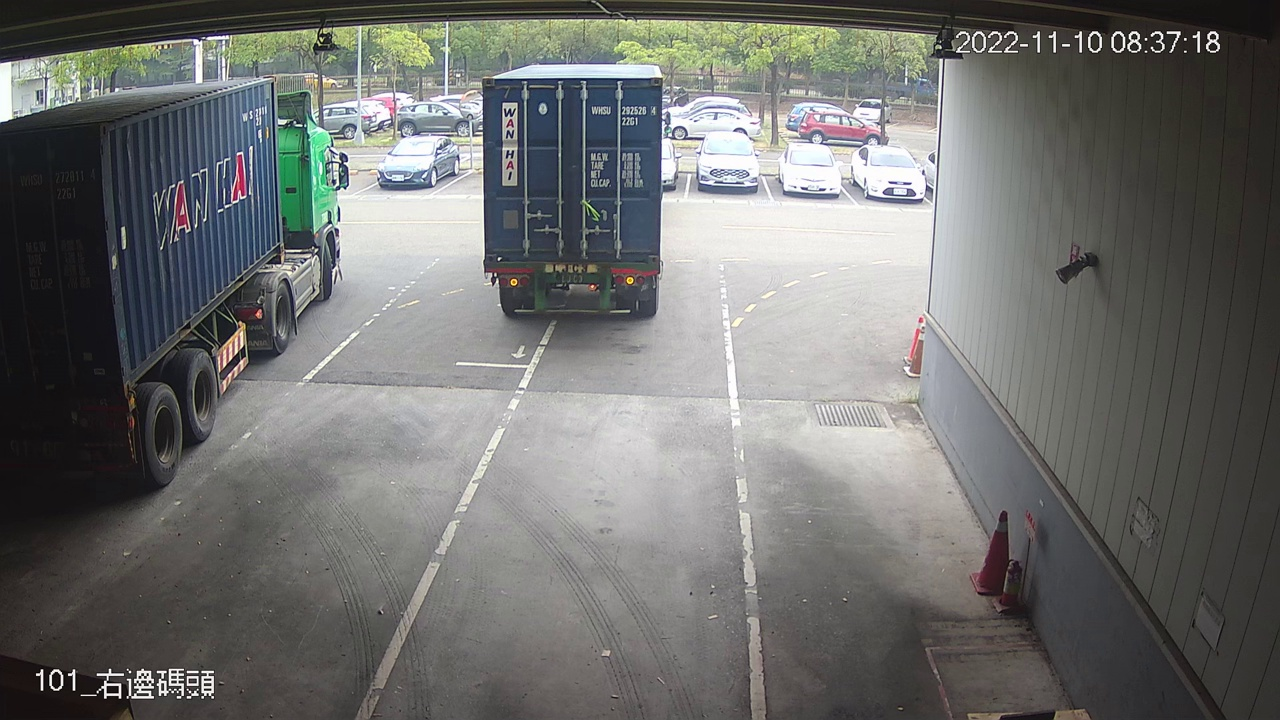container: (588, 102, 659, 129)
